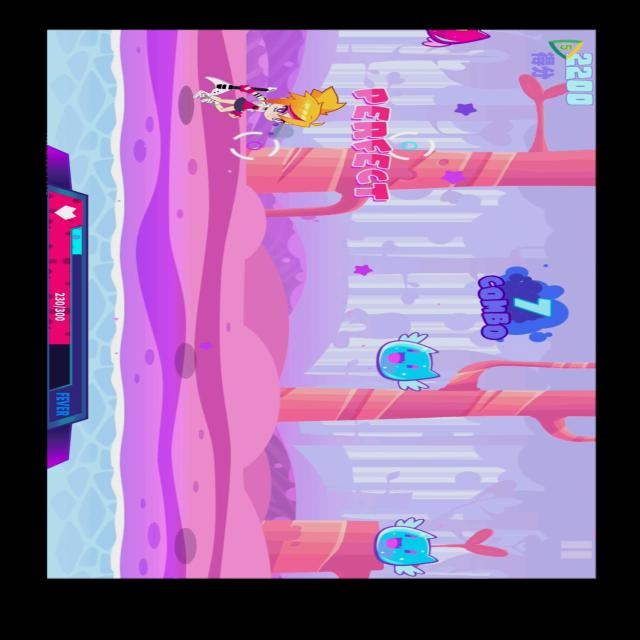mao: (364, 513, 454, 577), (374, 332, 451, 392)
